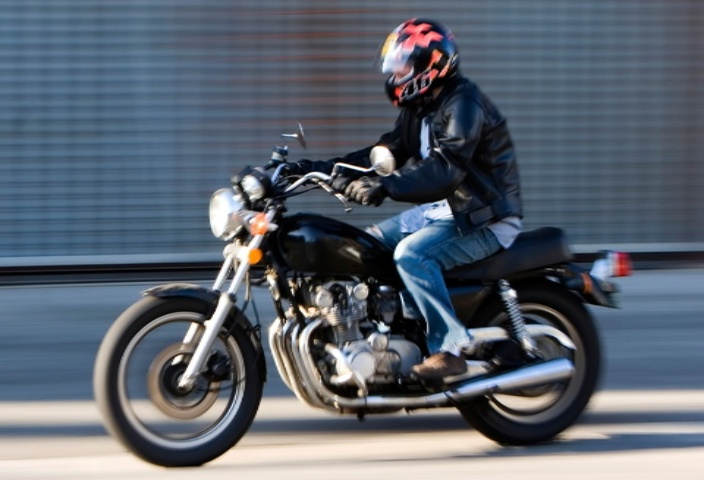motorcycle: (82, 9, 619, 466)
